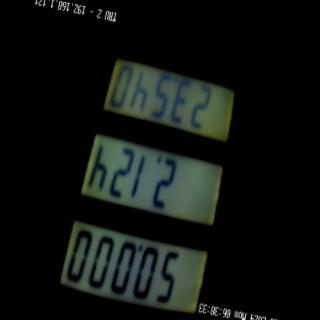screen: (47, 17, 254, 320)
